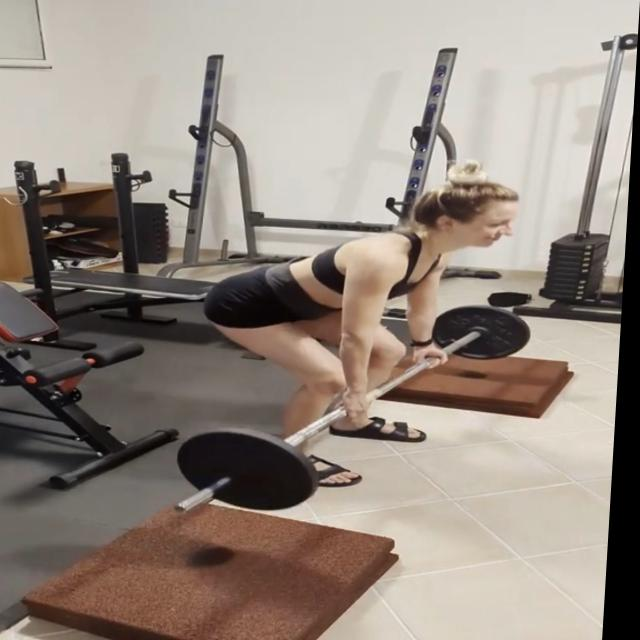barbell: (171, 428, 327, 518)
